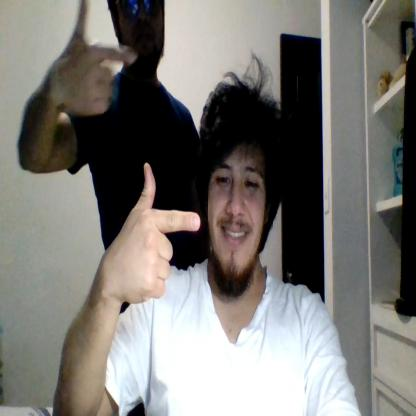G: (112, 162, 200, 303), (63, 0, 137, 116)
